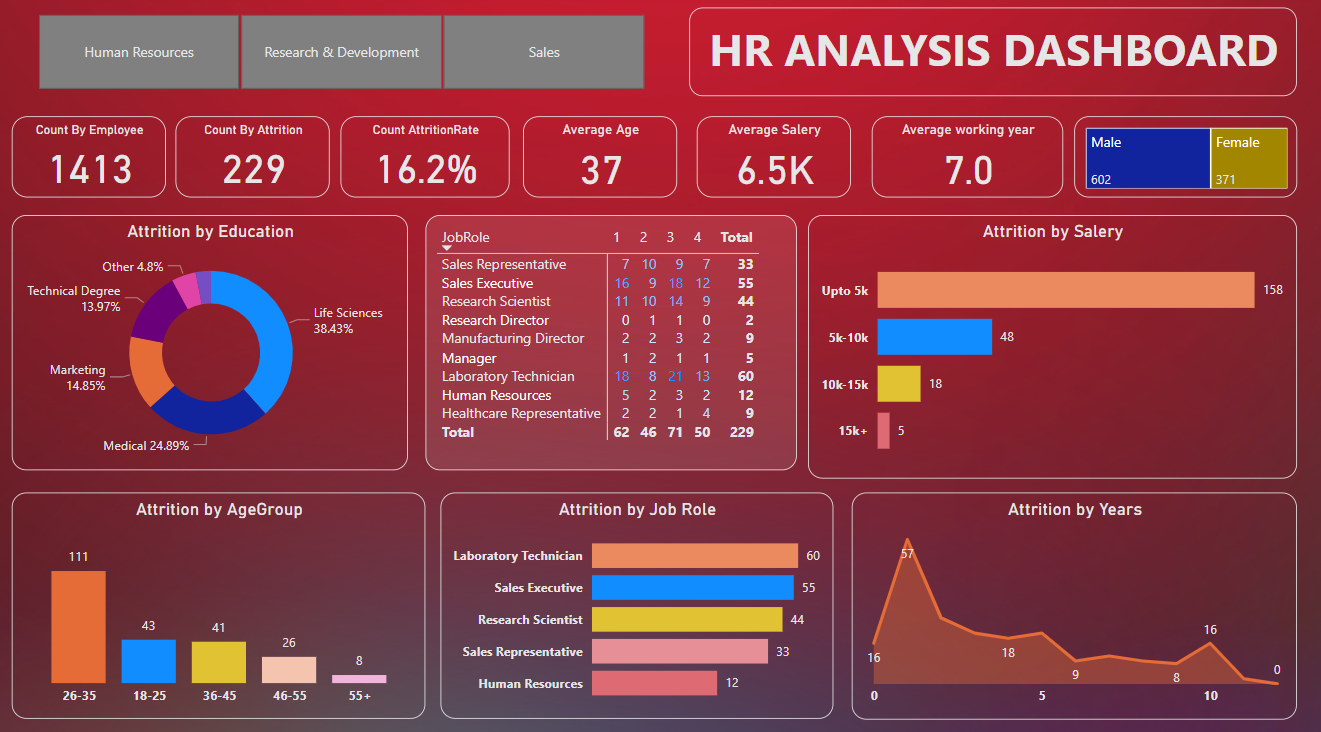

Layout of this report page (visuals, bound fields, positions):
{"tool":"powerbi","page":{"name":"Page 1","canvas":[1280,720],"ordinal":0},"visuals":[{"type":"card","title":"Count By Employee","fields":{"Values":["Count(HR_Analytics.EmpID)"]},"box":[12.9,117.4,148.9,78.8],"z":0},{"type":"textbox","box":[667.2,12.1,586.3,85.7],"z":1000},{"type":"card","title":"Count By Attrition","fields":{"Values":["Sum(HR_Analytics.Attritioncount)"]},"box":[171.9,117.4,148.9,78.8],"z":2000},{"type":"card","title":"Count AttritionRate","fields":{"Values":["HR_Analytics.AttritionRate"]},"box":[330.8,117.4,163.3,78.8],"z":3000},{"type":"card","title":"Average Age","fields":{"Values":["Avg(HR_Analytics.Age)"]},"box":[507,117.4,148.9,78.8],"z":4000},{"type":"card","title":"Average Salery","fields":{"Values":["Avg(HR_Analytics.MonthlyIncome)"]},"box":[674.5,117.4,148.9,78.8],"z":5000},{"type":"card","title":"Average working year","fields":{"Values":["Avg(HR_Analytics.YearsAtCompany)"]},"box":[843.5,117.4,184.7,78.8],"z":6000},{"type":"donutChart","title":"Attrition by Education","fields":{"Category":["HR_Analytics.EducationField"],"Y":["Sum(HR_Analytics.Attritioncount)"]},"box":[13.3,212.3,382.4,246.1],"z":7000},{"type":"columnChart","title":"Attrition by AgeGroup","fields":{"Category":["HR_Analytics.AgeGroup"],"Y":["Sum(HR_Analytics.Attritioncount)"]},"box":[13.3,480.2,399.3,218.4],"z":8000},{"type":"pivotTable","fields":{"Rows":["HR_Analytics.JobRole"],"Columns":["HR_Analytics.JobSatisfaction"],"Values":["Sum(HR_Analytics.Attritioncount)"]},"box":[412.6,212.3,358.3,246.1],"z":9000},{"type":"clusteredBarChart","title":"Attrition by Salery","fields":{"Category":["HR_Analytics.SalarySlab"],"Y":["Sum(HR_Analytics.Attritioncount)"]},"box":[781.8,212.3,471.7,254.6],"z":10000},{"type":"barChart","title":"Attrition by Job Role","fields":{"Category":["HR_Analytics.JobRole"],"Y":["Sum(HR_Analytics.Attritioncount)"]},"box":[427.1,480.2,378.8,218.4],"z":11000},{"type":"areaChart","title":"Attrition by Years","fields":{"Category":["HR_Analytics.YearsAtCompany"],"Y":["Sum(HR_Analytics.Attritioncount)"]},"box":[823.5,479.8,429.6,219.1],"z":12000},{"type":"treemap","title":"Attrition by Job Role","fields":{"Values":["CountNonNull(HR_Analytics.AgeGroup)"],"Group":["HR_Analytics.Gender"]},"box":[1038.3,117.4,214.8,78.8],"z":13000},{"type":"slicer","fields":{"Values":["HR_Analytics.Department"]},"box":[13.3,12.1,634.6,85.7],"z":14000}]}

Visuals, with their boxes in screenshot pixels (x1, y1, x2, y2), scaled from the page's 1280x720 canvas onto the 1321x732 screenshot:
"Count By Employee" card: (x1=13, y1=119, x2=167, y2=199)
textbox: (x1=689, y1=12, x2=1294, y2=99)
"Count By Attrition" card: (x1=177, y1=119, x2=331, y2=199)
"Count AttritionRate" card: (x1=341, y1=119, x2=510, y2=199)
"Average Age" card: (x1=523, y1=119, x2=677, y2=199)
"Average Salery" card: (x1=696, y1=119, x2=850, y2=199)
"Average working year" card: (x1=871, y1=119, x2=1061, y2=199)
"Attrition by Education" donutChart: (x1=14, y1=216, x2=408, y2=466)
"Attrition by AgeGroup" columnChart: (x1=14, y1=488, x2=426, y2=710)
pivotTable - HR_Analytics.JobRole x HR_Analytics.JobSatisfaction: (x1=426, y1=216, x2=796, y2=466)
"Attrition by Salery" clusteredBarChart: (x1=807, y1=216, x2=1294, y2=475)
"Attrition by Job Role" barChart: (x1=441, y1=488, x2=832, y2=710)
"Attrition by Years" areaChart: (x1=850, y1=488, x2=1293, y2=711)
"Attrition by Job Role" treemap: (x1=1072, y1=119, x2=1293, y2=199)
slicer - HR_Analytics.Department: (x1=14, y1=12, x2=669, y2=99)
